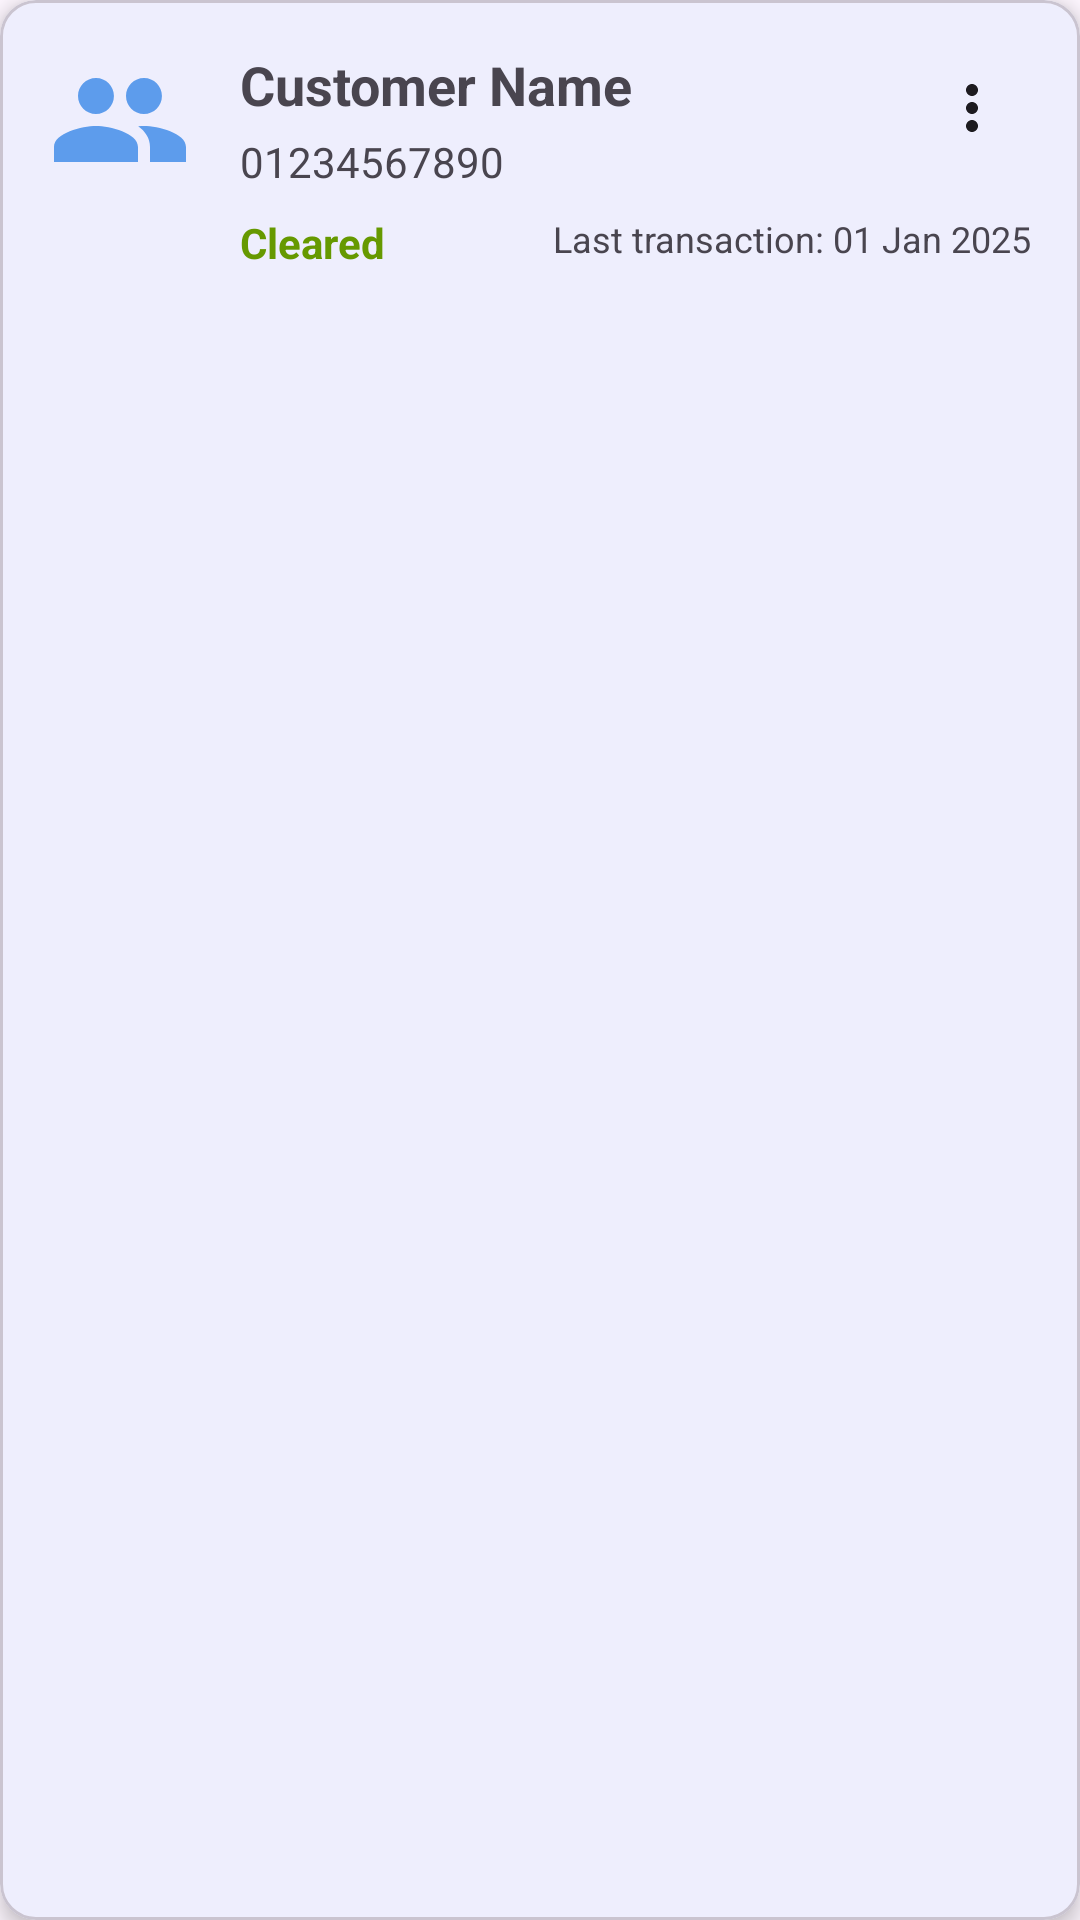

Named icons in this screenshot (1080px×1920px) and their bounding boxes, [x1=x1, y1=y1, x2=x2, y2=y2]:
more vert: [x1=966, y1=84, x2=978, y2=132]
